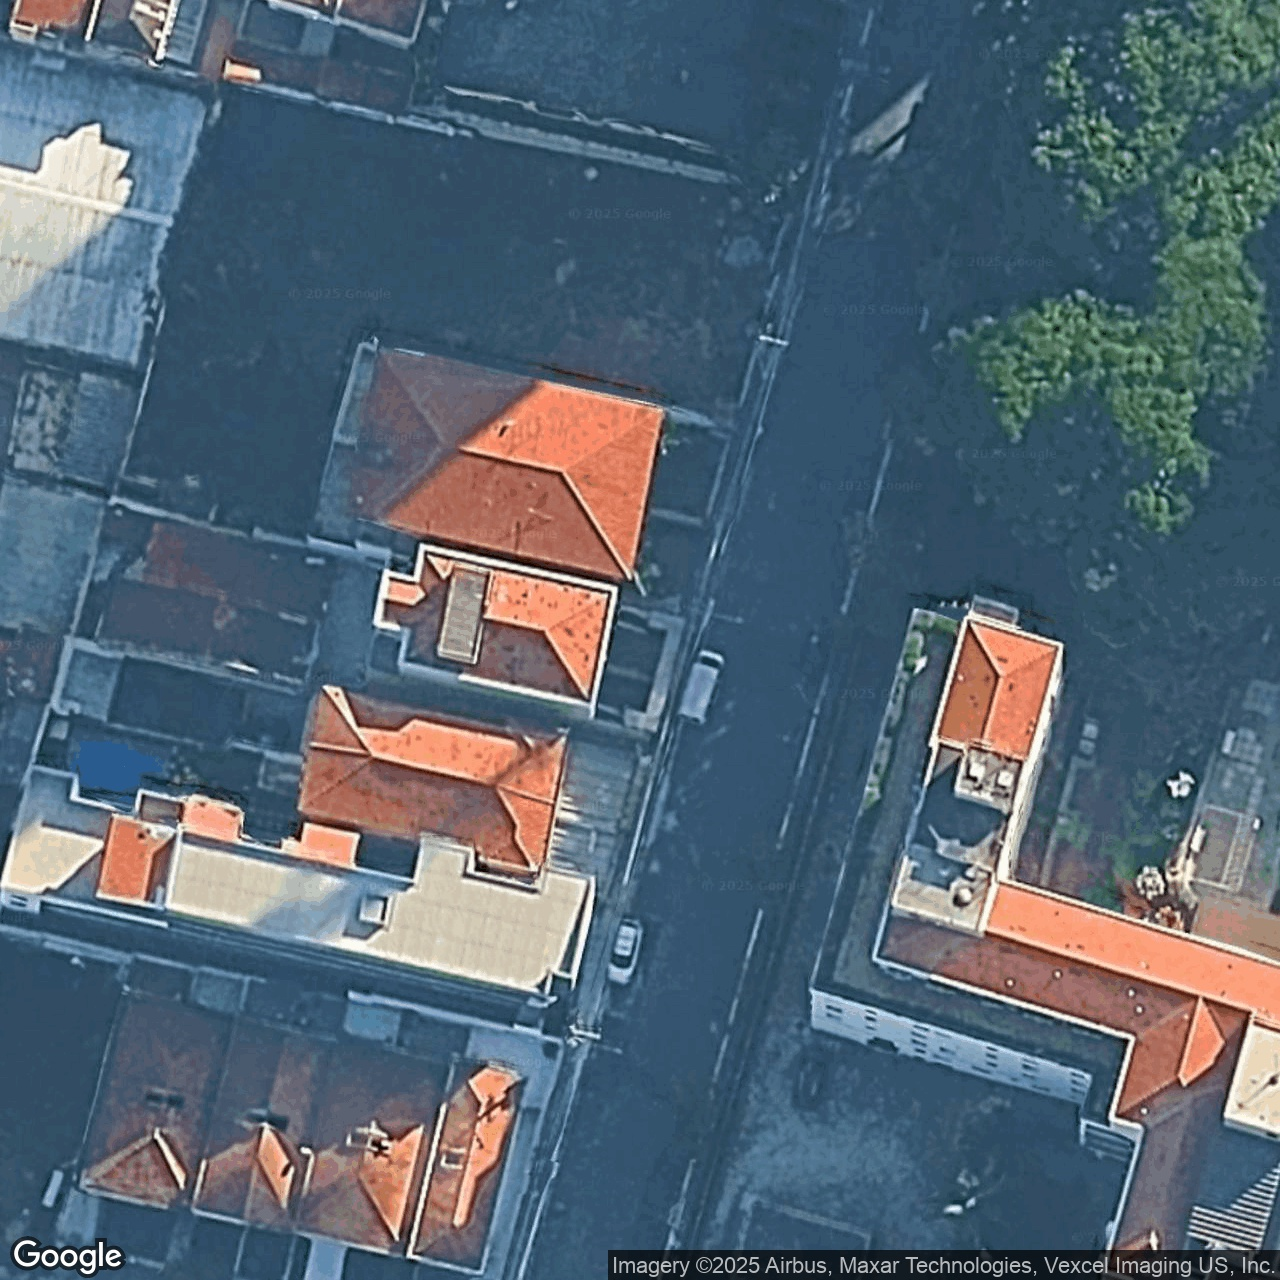pool: (62, 716, 172, 812)
